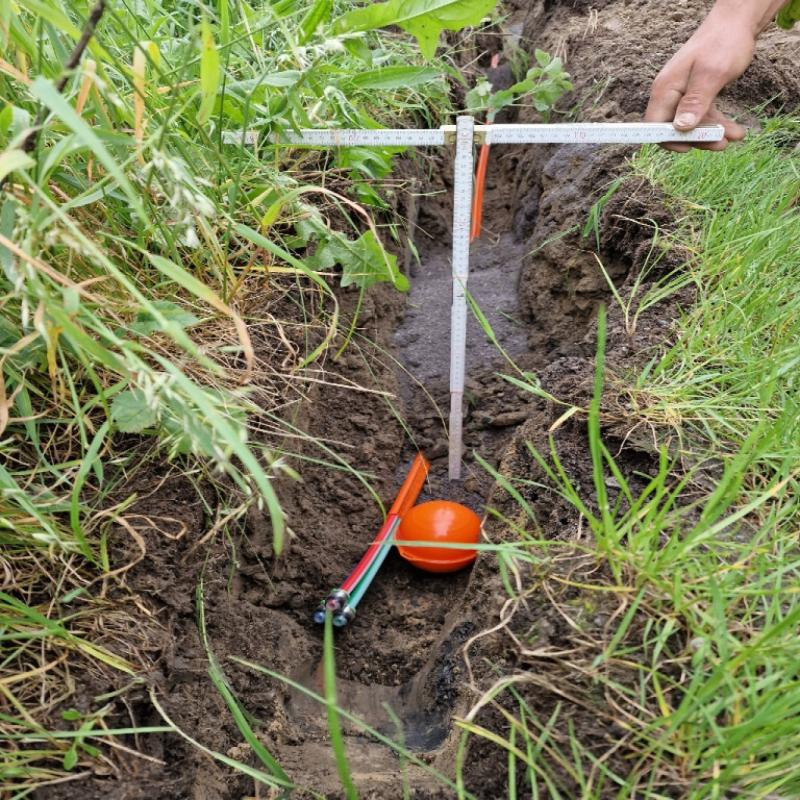Kugelmarker: (394, 501, 482, 573)
Orang-Speednetrohrchen: (314, 455, 433, 626)
